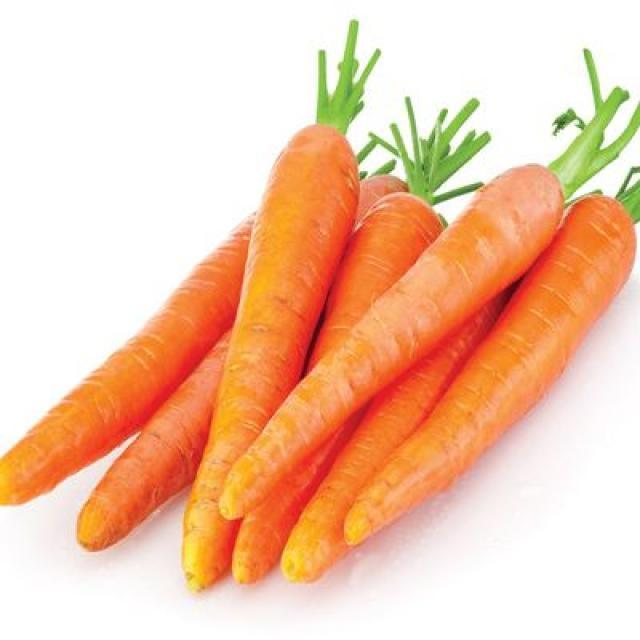carrot: (218, 149, 566, 522), (344, 190, 637, 550), (178, 119, 362, 600)
